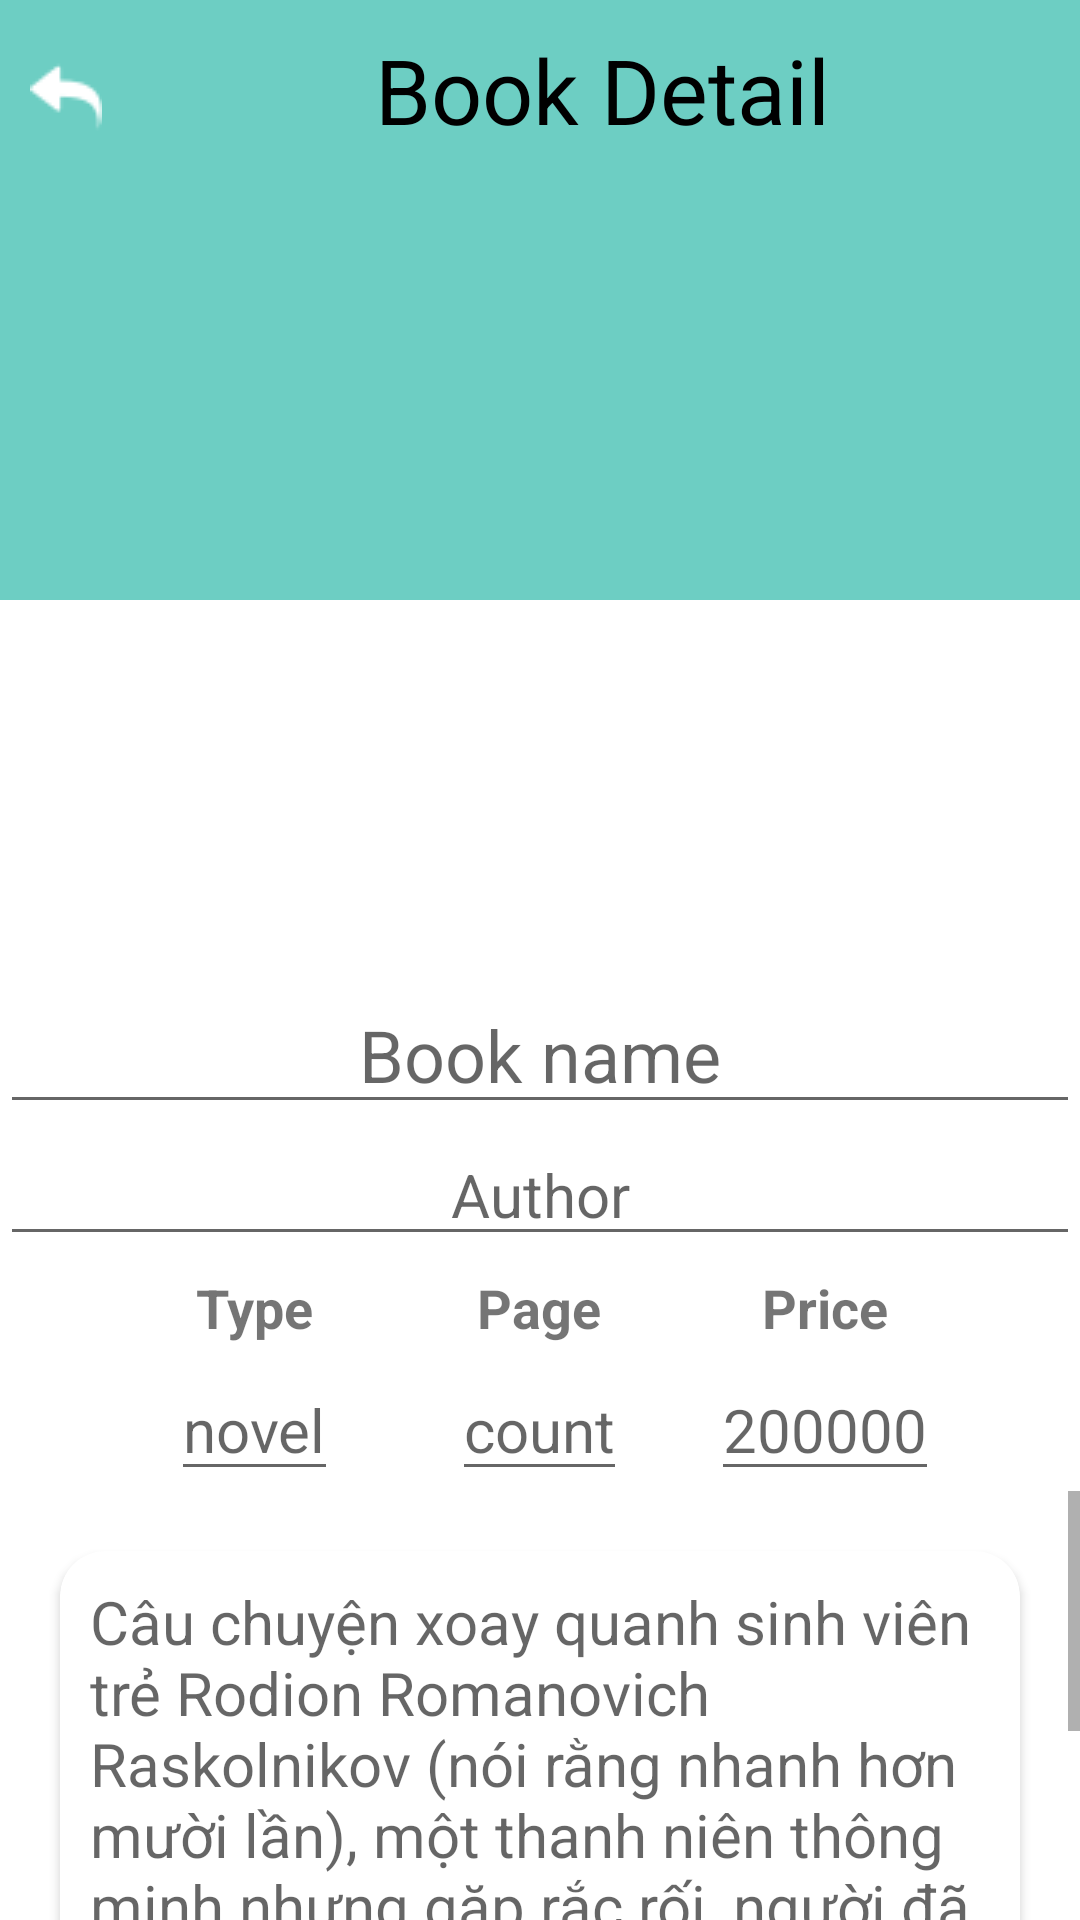

Screen size 1080x1920. Icon name, then its box in pixels as (x1, y1, x2, y2):
iconback: (30, 66, 102, 127)
